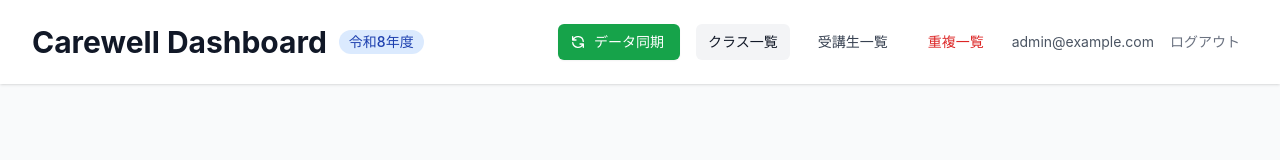
Scenario: App header (mobile-first) › 同期結果のトースト › should show an error toast when the sync request fails
What coordinates should you click on to do the following:
click the button "データ同期"
I would click on:
 (619, 42)
Its box is [558,24,680,60].
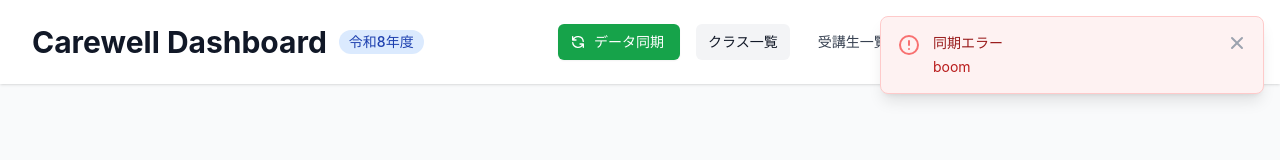
Expected: the element with class "fixed" shows "同期エラー", [933,34,1003,51]
Expected: the element with class "fixed" shows "boom", [933,58,971,75]
